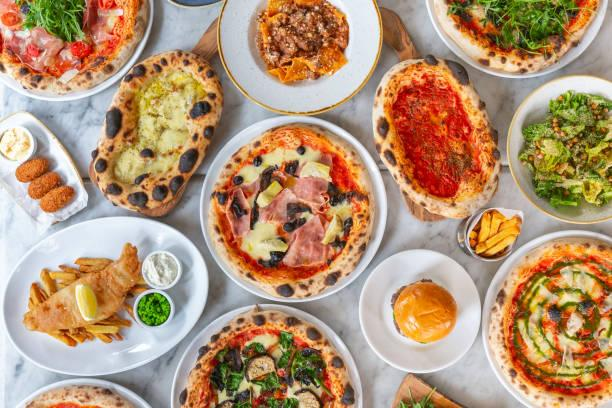Braised Crucian Carp: (199, 116, 382, 299), (3, 215, 207, 376), (481, 229, 607, 406), (92, 49, 221, 212), (376, 56, 499, 223), (170, 303, 359, 406), (216, 0, 382, 117), (506, 74, 610, 224), (358, 249, 481, 374), (3, 0, 150, 101), (427, 1, 603, 79), (1, 110, 89, 228)
